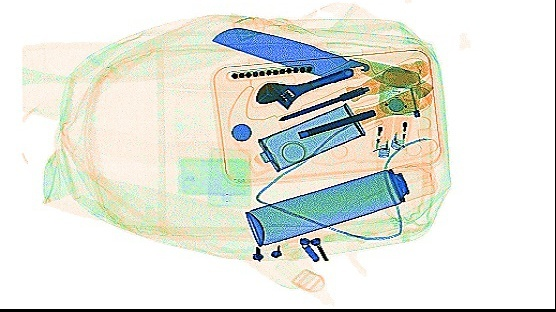knife: (211, 24, 420, 90)
lighter: (389, 91, 414, 150), (371, 93, 391, 157)
pressure: (243, 159, 437, 247)
zippooil: (256, 101, 365, 173)
